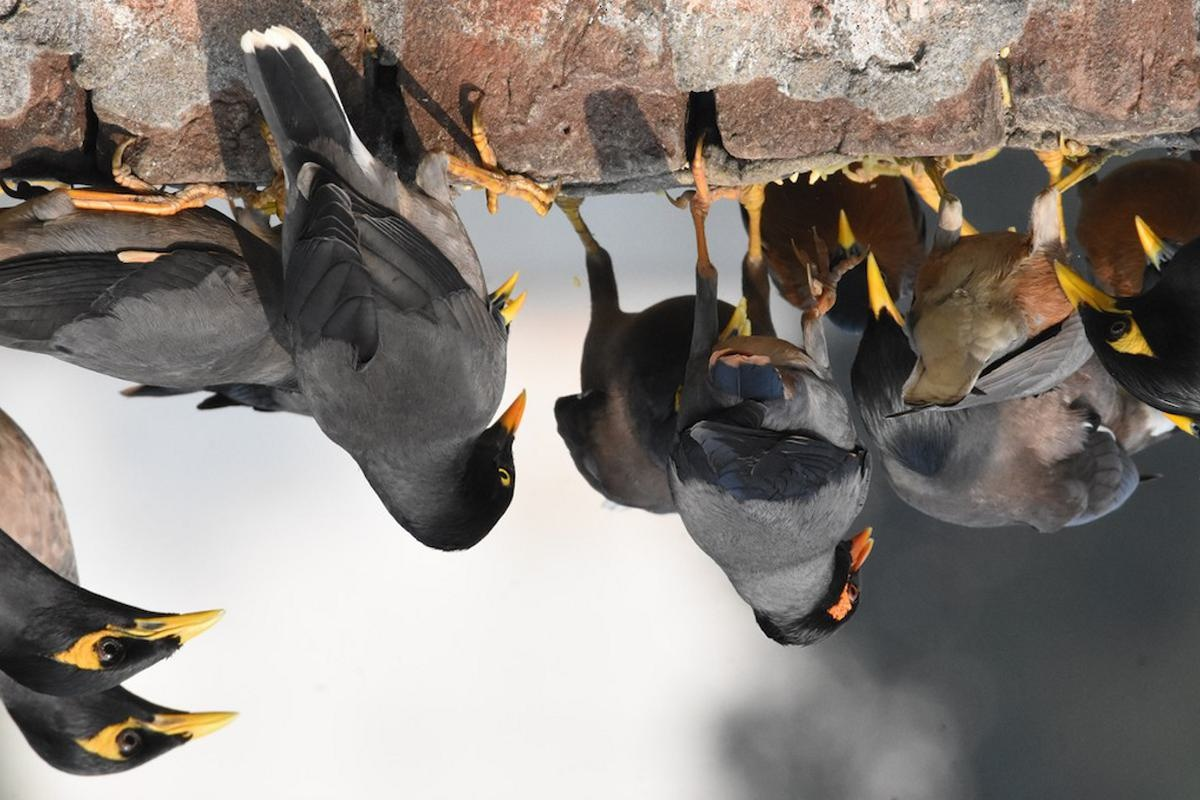myna: (239, 48, 569, 595), (1, 523, 225, 672), (1, 663, 247, 797)
